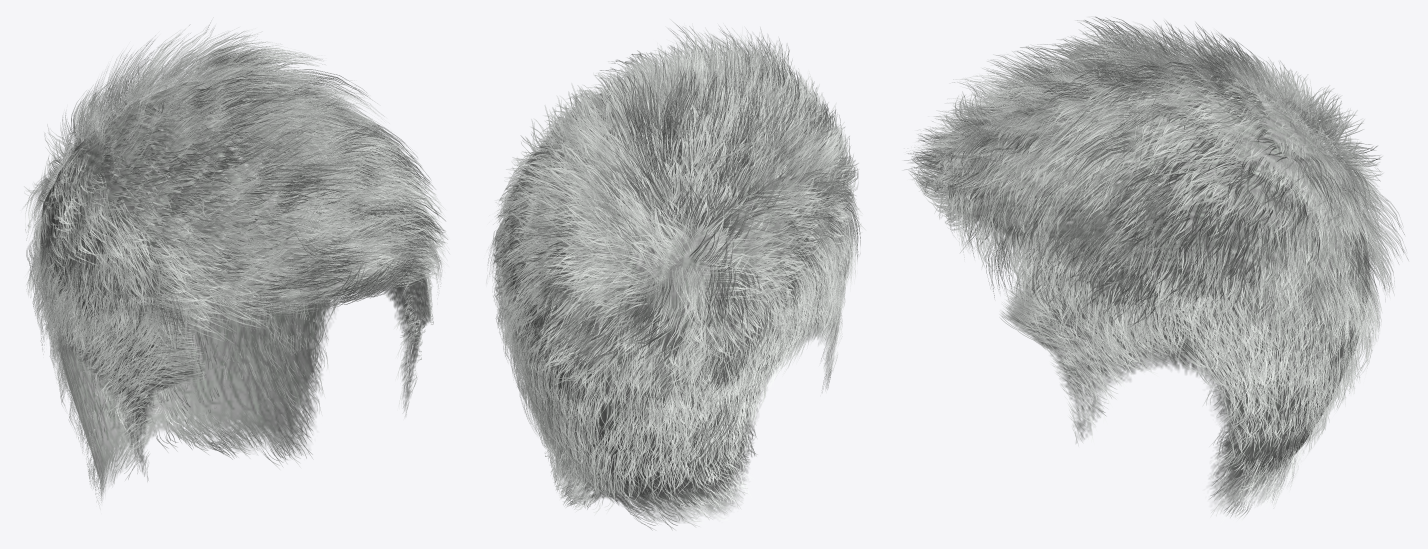
Rendered from hair000.glb.
3 views of the same model, side by side, from view 1: azimuth 30°, elevation 25°; view 2: azimuth 150°, elevation 25°; view 3: azimuth 270°, elevation 25° (orthographic). The views are drawn at different scales.
Visible parts, largest first — view 1: hair, scalp; view 2: hair, scalp; view 3: hair, scalp.
Part boxes in pixels (left/top/right/bottom): hair: left=22, top=17, right=449, bottom=509; scalp: left=39, top=80, right=430, bottom=499; hair: left=486, top=19, right=865, bottom=530; scalp: left=501, top=94, right=847, bottom=522; hair: left=904, top=16, right=1408, bottom=524; scalp: left=946, top=71, right=1369, bottom=510.
Size of the model in its own units: 0.1419 by 0.1971 by 0.1962.
Materials: 2 (2 with a texture image).
